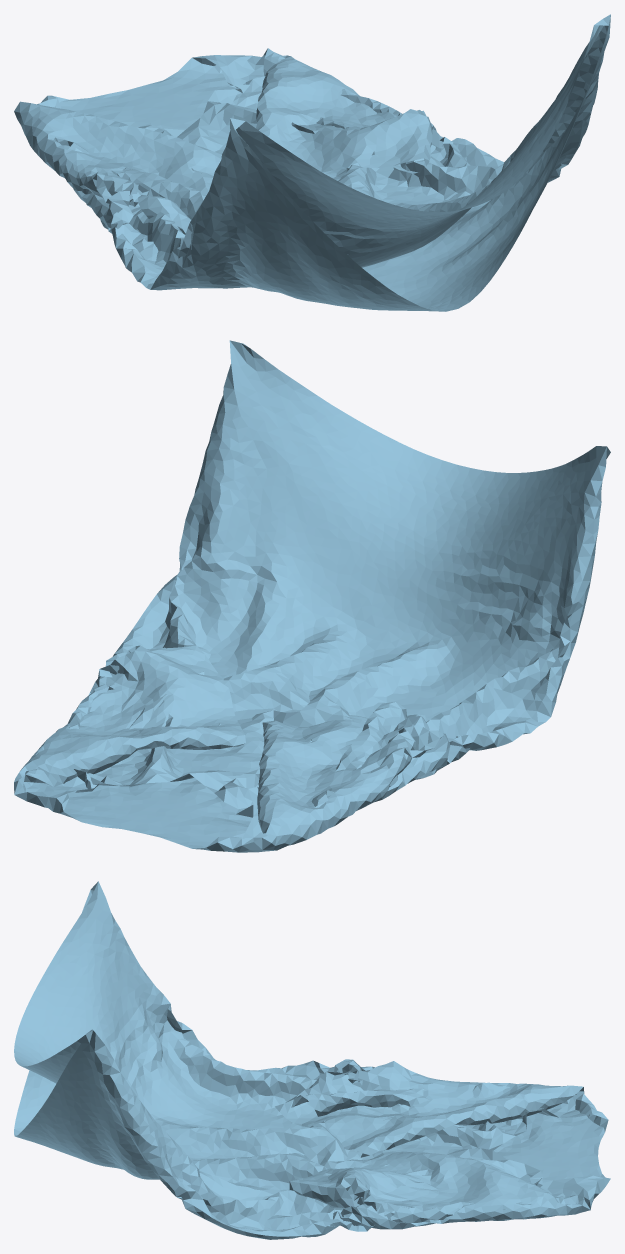
Rendered from frame_05.glb.
The picture shows the model from 3 angles, top to bottom: view 1: azimuth 30°, elevation 25°; view 2: azimuth 150°, elevation 25°; view 3: azimuth 270°, elevation 25°; orthographic projection. The views are drawn at different scales.
Visible parts, largest first — view 1: frame_05.obj; view 2: frame_05.obj; view 3: frame_05.obj.
Part boxes in pixels (x1,y1,x2,y2): frame_05.obj: (14, 14, 610, 311); frame_05.obj: (14, 340, 610, 852); frame_05.obj: (14, 881, 610, 1239).
Size of the model in its own units: 1.12 by 0.6515 by 1.64.
